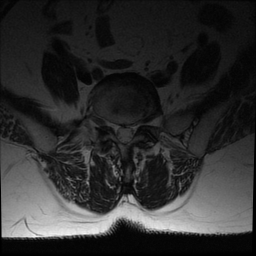CCS_normal: (121, 116, 128, 151)
LFS_stenosis: (136, 108, 145, 134)
LLS_normal: (128, 116, 136, 145)
RFS_stenosis: (106, 110, 113, 136)
RLS_normal: (113, 115, 121, 147)
